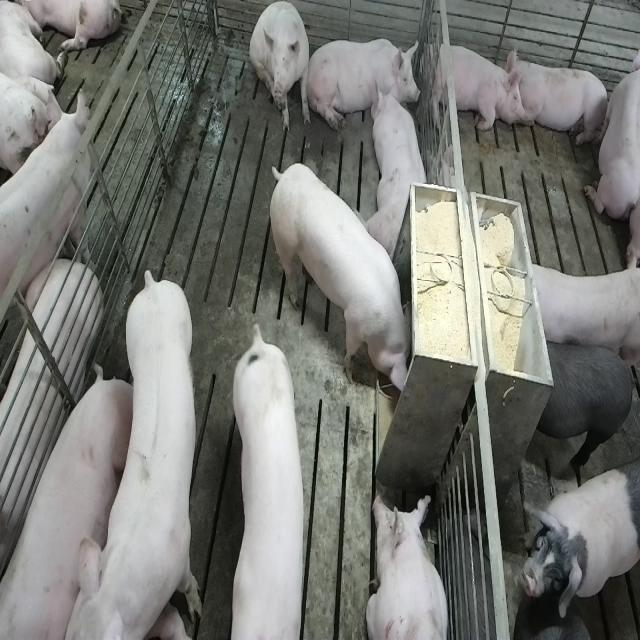Feeding: (265, 161, 411, 393)
Lateral_lying: (0, 370, 129, 640), (0, 261, 102, 586)
Sitting: (250, 1, 311, 134)
Standing: (80, 262, 206, 636), (226, 324, 312, 640), (0, 92, 91, 334), (519, 464, 638, 620), (530, 338, 636, 481), (521, 256, 637, 367)
Sternal_lying: (367, 490, 450, 640), (370, 84, 431, 262), (312, 32, 416, 131), (509, 51, 611, 149), (584, 37, 637, 223), (426, 37, 522, 135)
